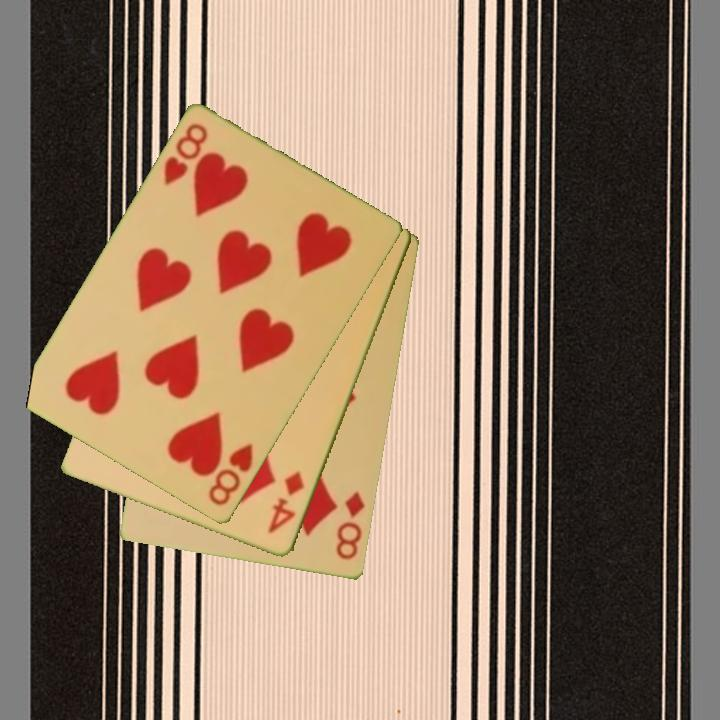4d: (264, 468, 308, 538)
8d: (332, 488, 368, 563)
8h: (205, 440, 257, 509), (160, 120, 211, 189)
